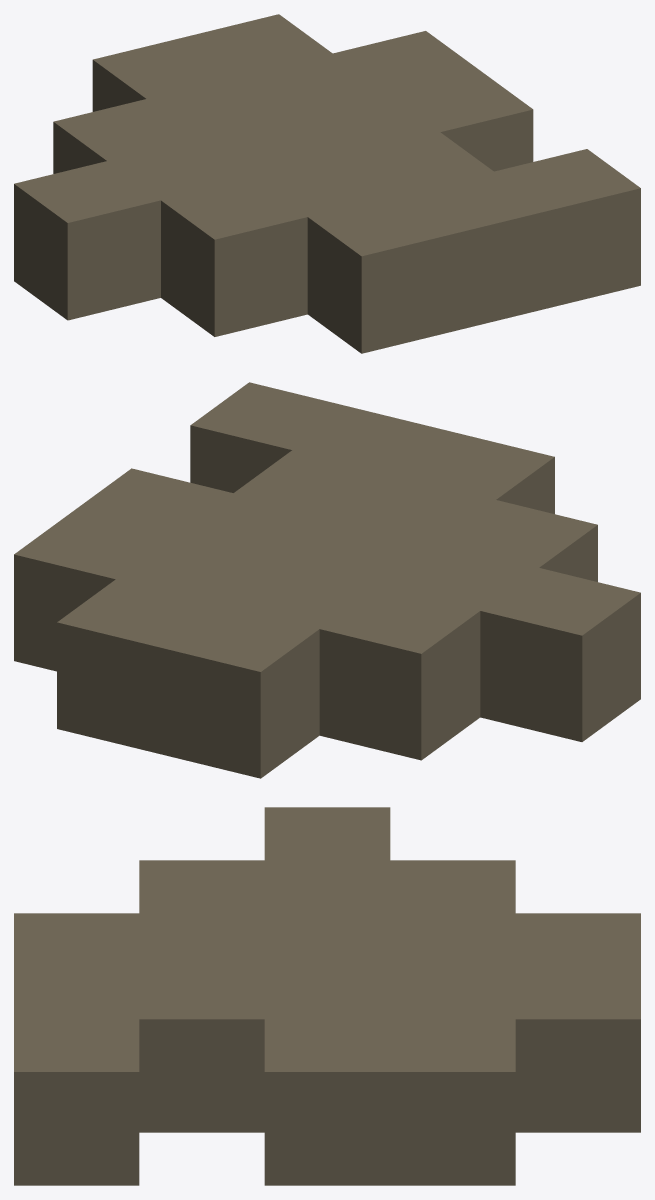
The model's file is Cobblestone 2.obj.
The picture shows the model from 3 angles, top to bottom: view 1: azimuth 30°, elevation 25°; view 2: azimuth 150°, elevation 25°; view 3: azimuth 270°, elevation 25°; orthographic projection. The views are drawn at different scales.
Bounding box in the file's own units: 0.5 × 0.1 × 0.5.
Materials: 1 (1 with a texture image).
